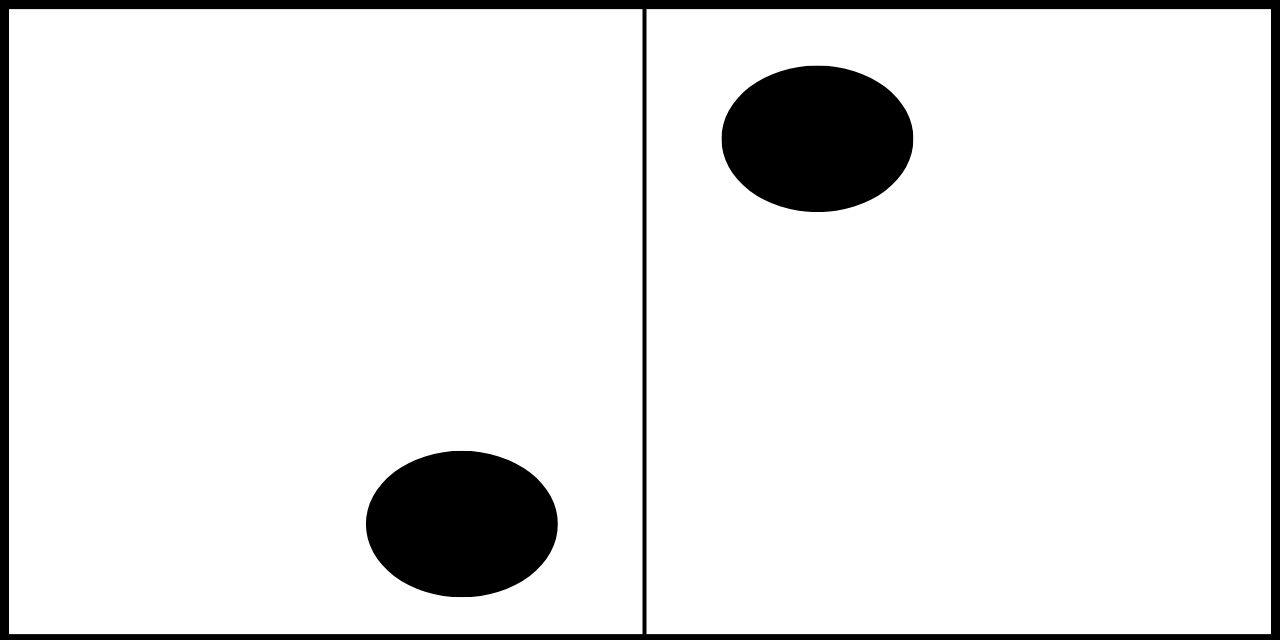capital_sign: (149, 49, 558, 597)
letter_A: (722, 47, 1161, 590)
